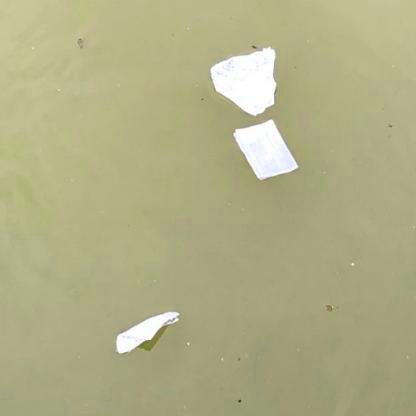Trash: (207, 43, 280, 122), (229, 117, 300, 185), (112, 306, 182, 359)
